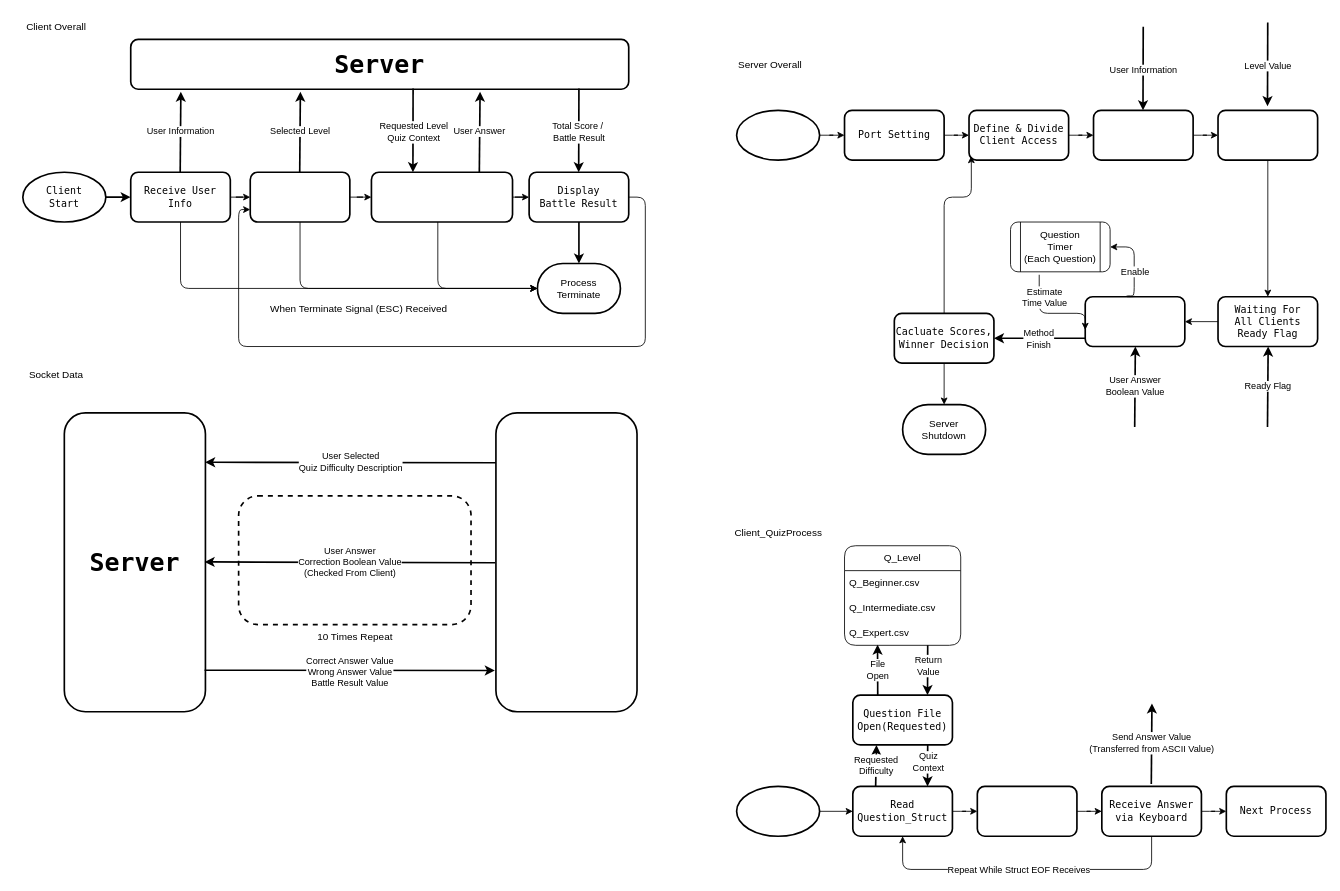
This 1340x891 diagram has some shape labels left out. The shapes that lost their labels are listed below. From the top down, each one's centre as x and y in pixels, then its label:
[777,135]: Server Attach
[1143,135]: Receive User Info per Client
[1267,135]: Receive User Requested Level
[299,196]: Level Selection
[441,196]: Quiz Method
[1134,321]: Quiz Method Start(Server)
[566,562]: Client
[777,811]: Quiz Start
[1026,811]: Display Initialize For Question
